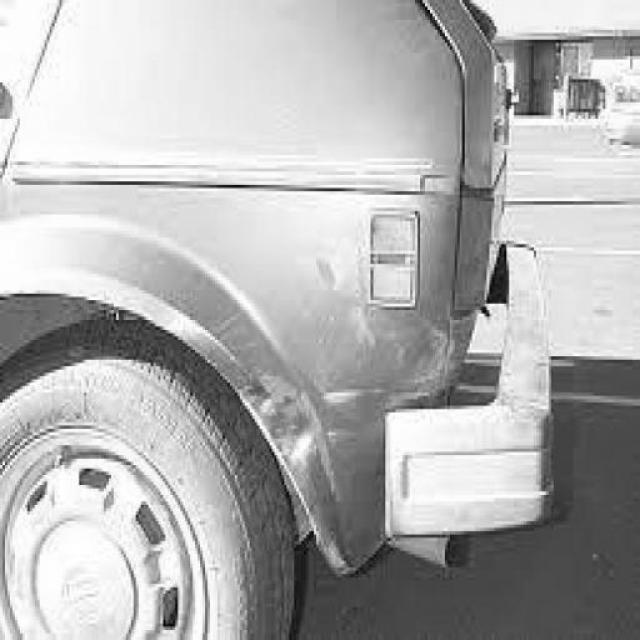dent: (246, 386, 316, 462), (317, 259, 344, 298)
scratch: (195, 242, 462, 573)
